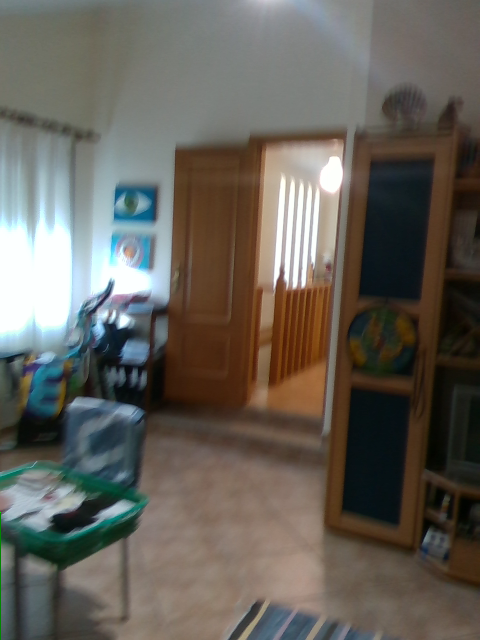open: (163, 127, 346, 426)
